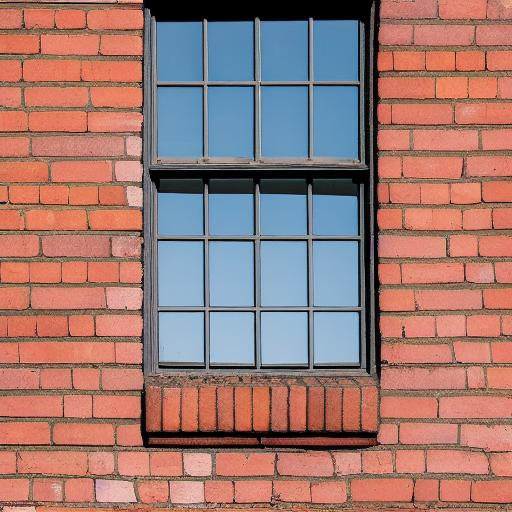Window: (141, 2, 382, 452)
